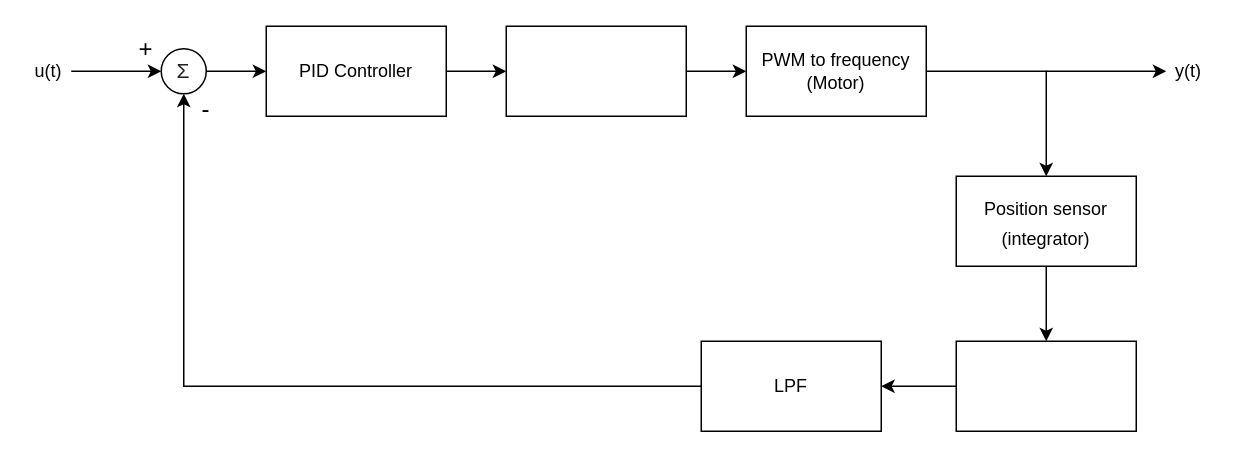
The diagram is 1236 pixels wide and 458 high, and some of its shapes have lost their labels. The shapes that lost their labels are listed below. From the top down, each one's centre as x and y in pixels, then its label:
the point at 595,70: Frequency to PWM
the point at 1045,385: Differentiator
